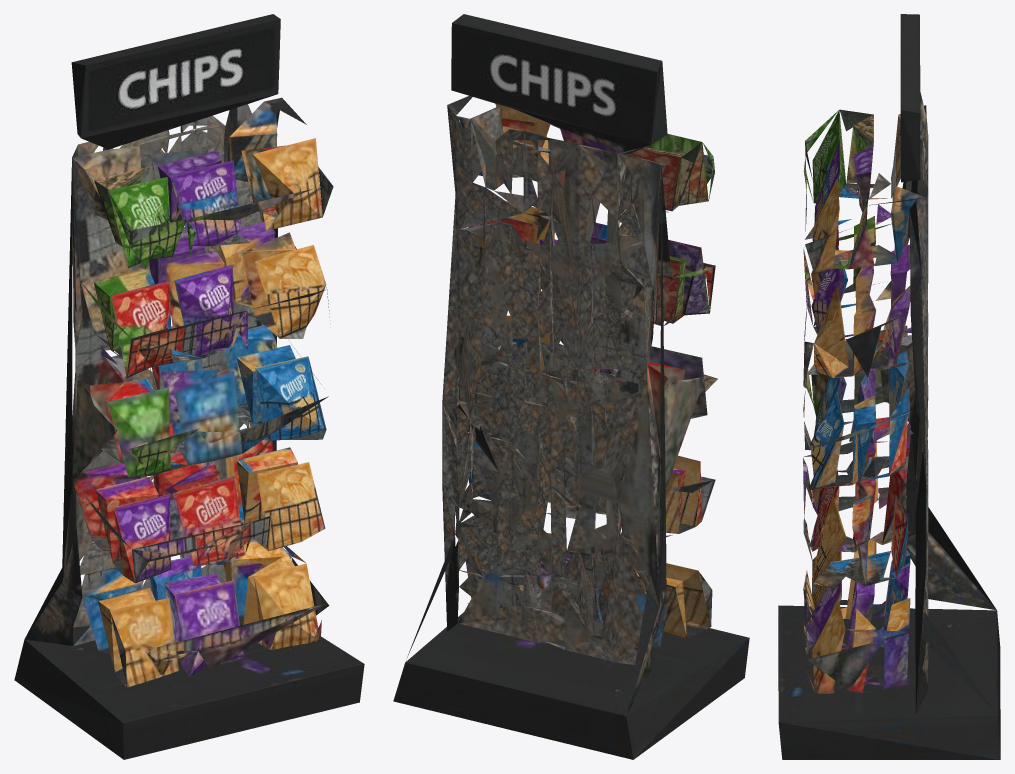
The model's file is chip_rack.glb.
3 views of the same model, side by side, from view 1: azimuth 30°, elevation 25°; view 2: azimuth 150°, elevation 25°; view 3: azimuth 270°, elevation 25° (orthographic). The views are drawn at different scales.
Size of the model in its own units: 0.7439 by 1.9 by 0.5968.
1 material, 1 textured.
